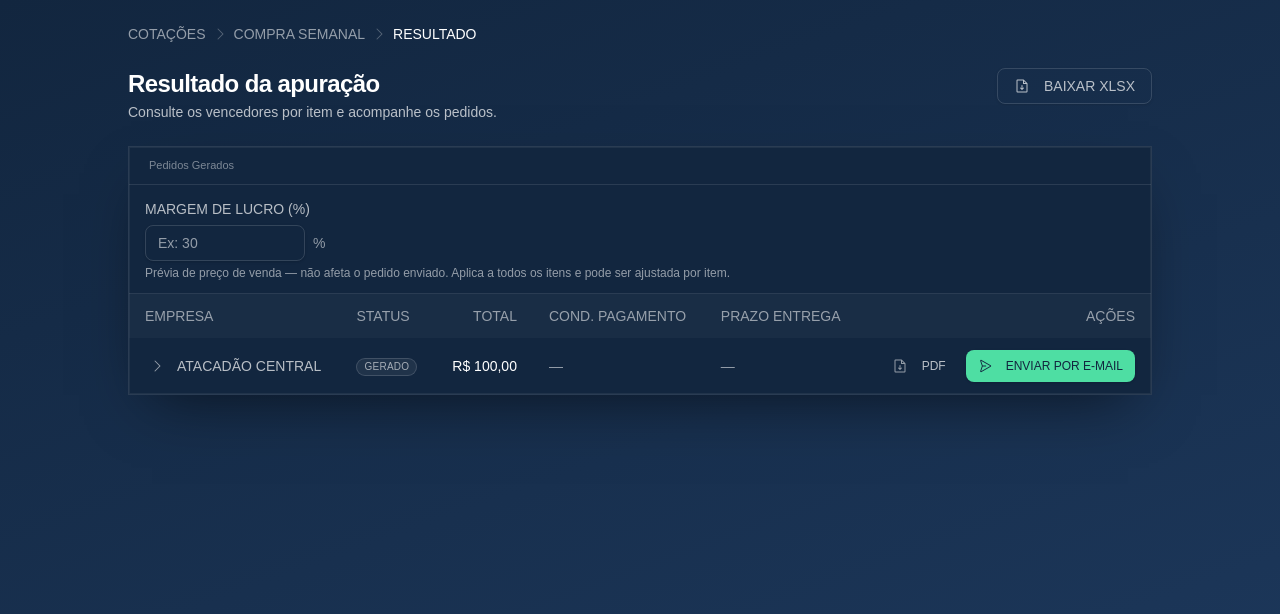
Test: expandir um pedido mostra seus itens e recolher esconde de novo
This screenshot has width=1280, height=614.
expect the text "Atacadão Central" is shown: met, box [145,354,324,378]
expect the text "Arroz Tipo 1 5kg" is not shown: met
Click the button named "Expandir itens de Atacadão Central".
click(157, 366)  # box [145,354,169,378]
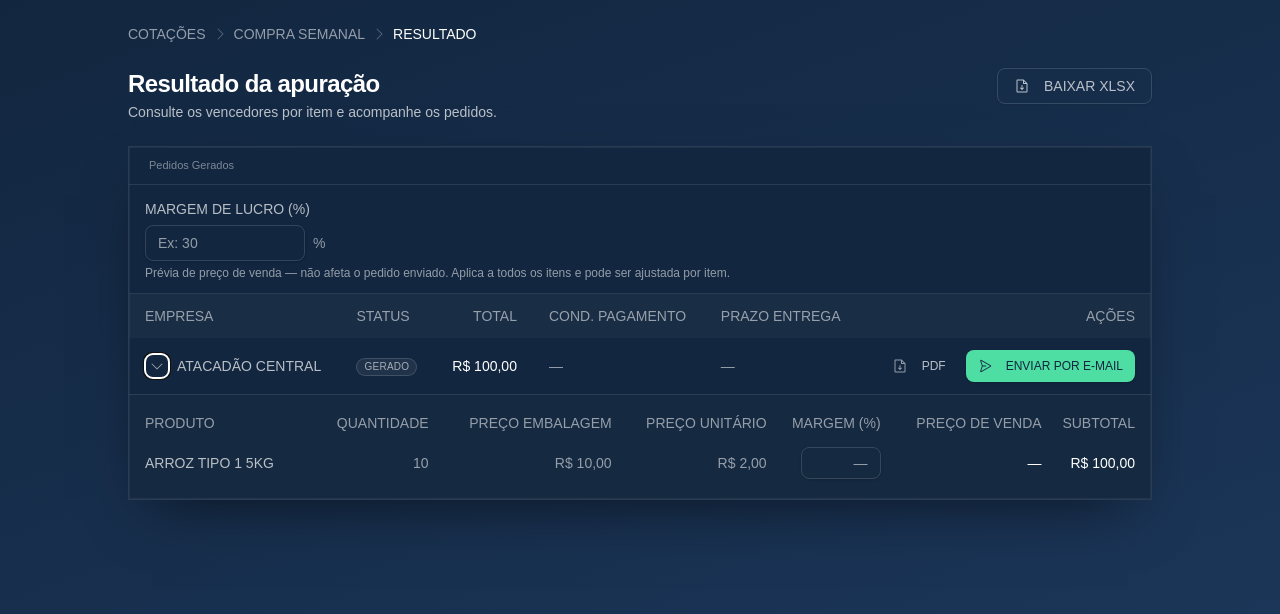
expect the text "Arroz Tipo 1 5kg" is shown: met, box [145,438,311,486]
Click the button named "Recolher itens de Atacadão Central".
click(157, 366)  # box [145,354,169,378]
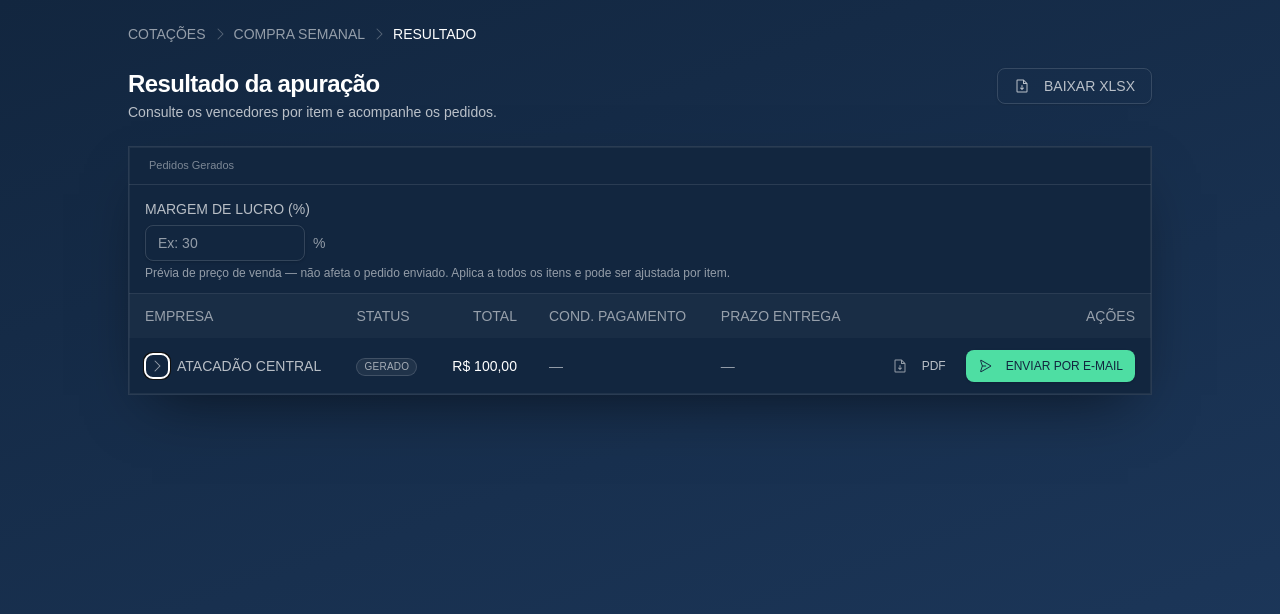
expect the text "Arroz Tipo 1 5kg" is gone: met
